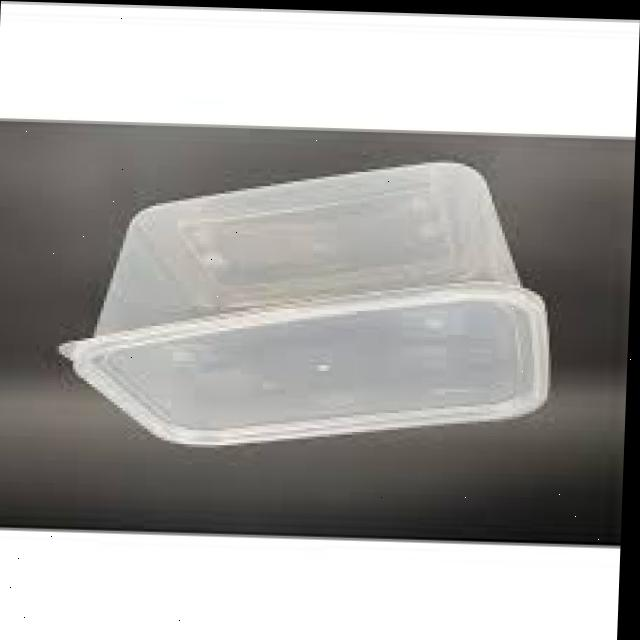disposable: (37, 106, 602, 477)
